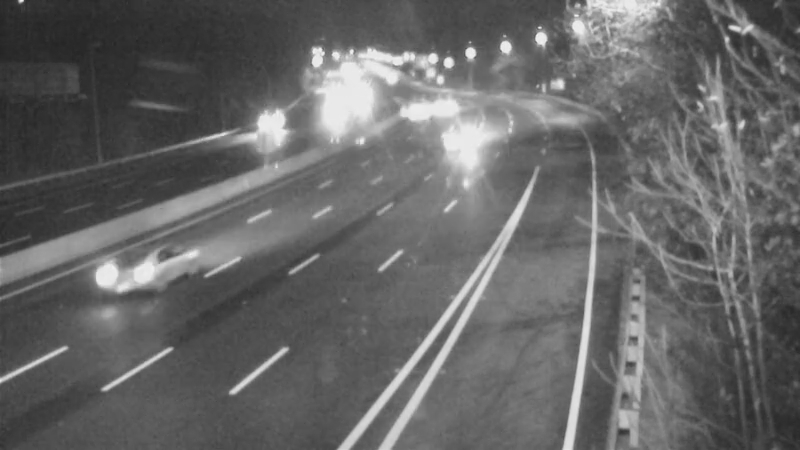vehicle: (87, 234, 167, 314), (416, 84, 466, 134), (387, 84, 437, 134), (432, 116, 482, 166), (242, 97, 292, 147), (304, 85, 354, 135)
